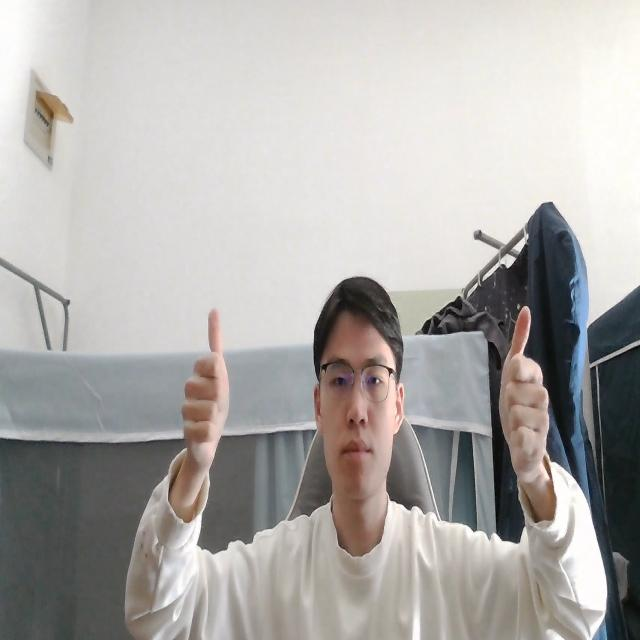good: (160, 294, 236, 509), (494, 294, 549, 476)
